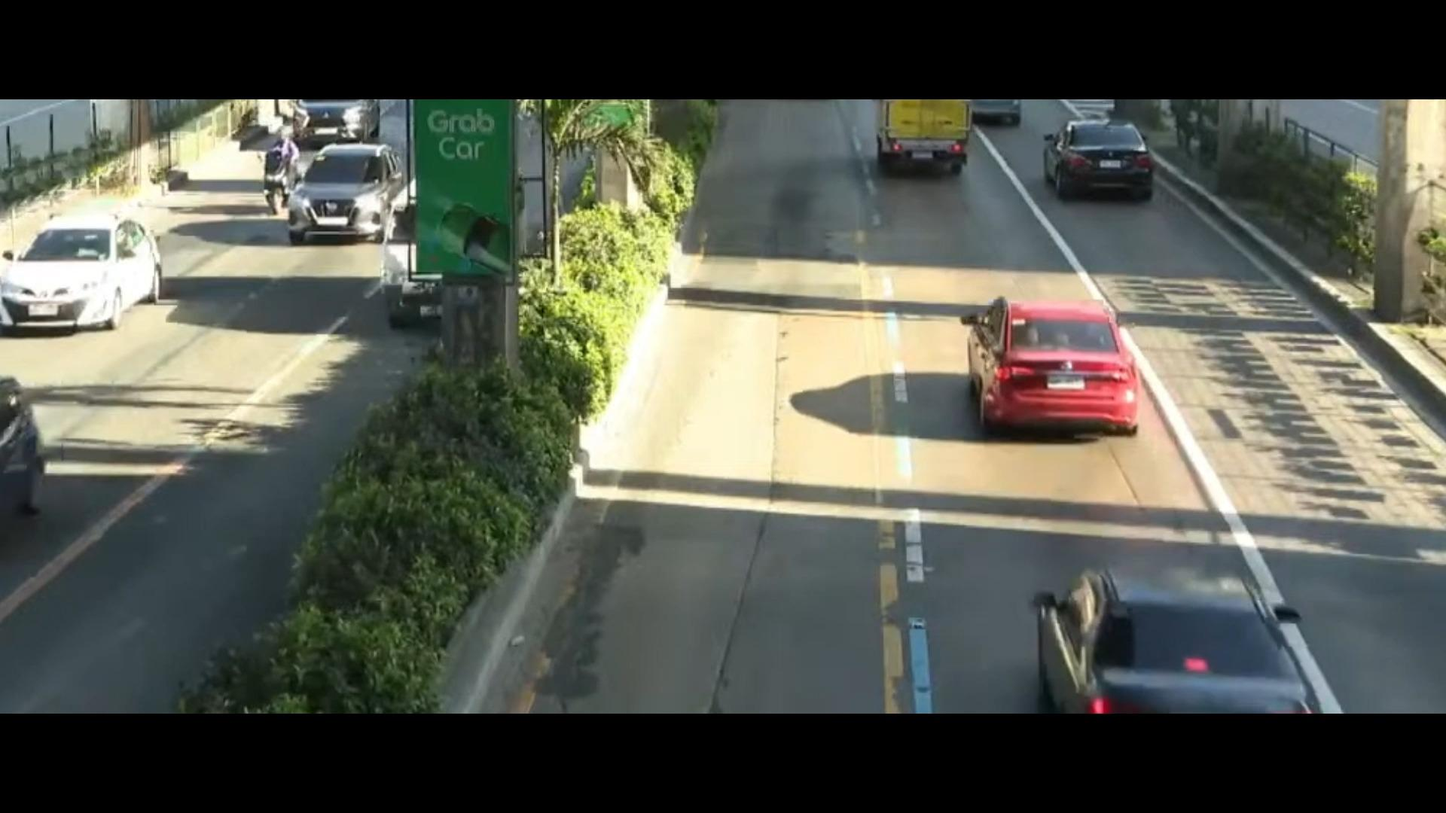Motorcycle: (230, 136, 316, 198)
SUV: (281, 142, 426, 246)
Sedan: (978, 544, 1326, 721), (956, 266, 1161, 467), (0, 204, 185, 336), (1028, 96, 1170, 209)
Truck: (850, 102, 975, 190)
Van: (381, 181, 448, 339), (275, 98, 394, 145)
